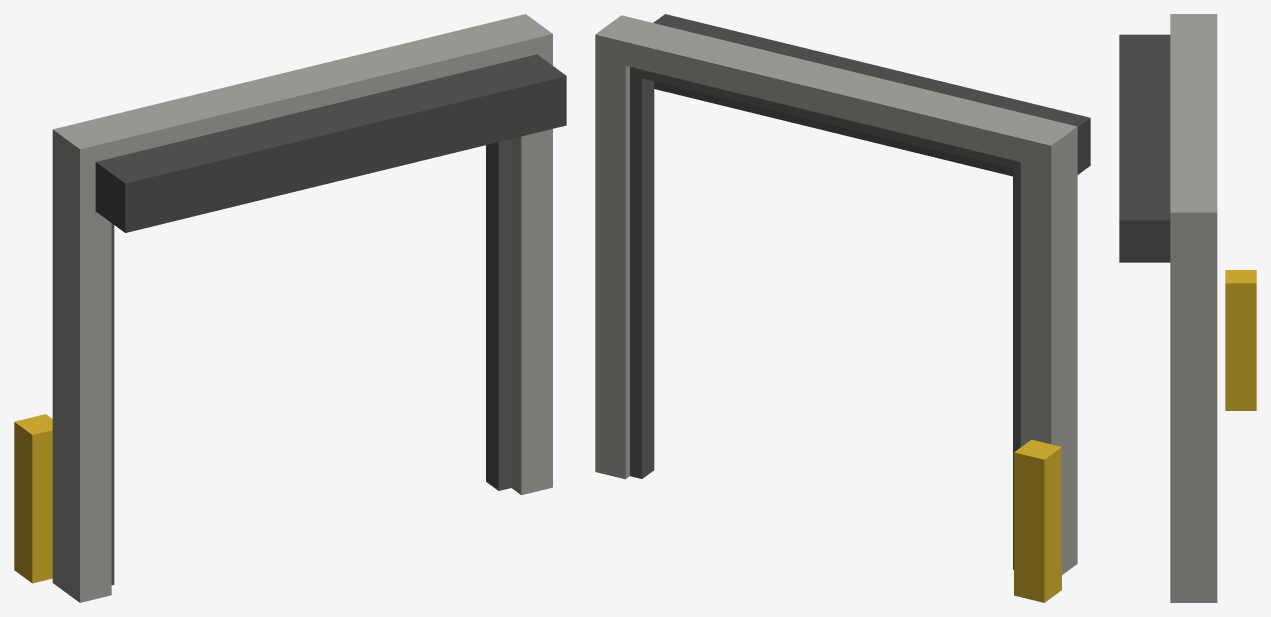
The model's file is Kit_concrete_bigdoor.fbx.
3 views of the same model, side by side, from view 1: azimuth 30°, elevation 25°; view 2: azimuth 150°, elevation 25°; view 3: azimuth 270°, elevation 25° (orthographic). The views are drawn at different scales.
Visible parts, largest first — view 1: ShutterBox, WallJambL, WallAbove, WallJambR, FrameR, Bollard, FrameL; view 2: WallJambL, WallAbove, WallJambR, FrameR, ShutterBox, Bollard, FrameTop, FrameL; view 3: WallJambR, ShutterBox, WallAbove, Bollard, WallJambL.
Boxes of the visible parts, <box> form: ShutterBox: <box>95,54,566,232</box>; WallJambL: <box>52,122,111,602</box>; WallAbove: <box>84,22,521,157</box>; WallJambR: <box>494,14,552,495</box>; FrameR: <box>486,139,511,490</box>; Bollard: <box>14,414,52,583</box>; FrameL: <box>111,223,114,585</box>; WallJambL: <box>1020,119,1077,574</box>; WallAbove: <box>625,22,1046,161</box>; WallJambR: <box>595,15,651,479</box>; FrameR: <box>630,69,654,478</box>; ShutterBox: <box>653,14,1090,176</box>; Bollard: <box>1014,439,1061,602</box>; FrameTop: <box>630,67,1020,170</box>; FrameL: <box>1013,161,1020,569</box>; WallJambR: <box>1170,199,1217,602</box>; ShutterBox: <box>1119,34,1170,262</box>; WallAbove: <box>1170,27,1217,199</box>; Bollard: <box>1225,270,1256,410</box>; WallJambL: <box>1170,14,1217,27</box>.
Size of the model in its own units: 310 by 87.5 by 275.
